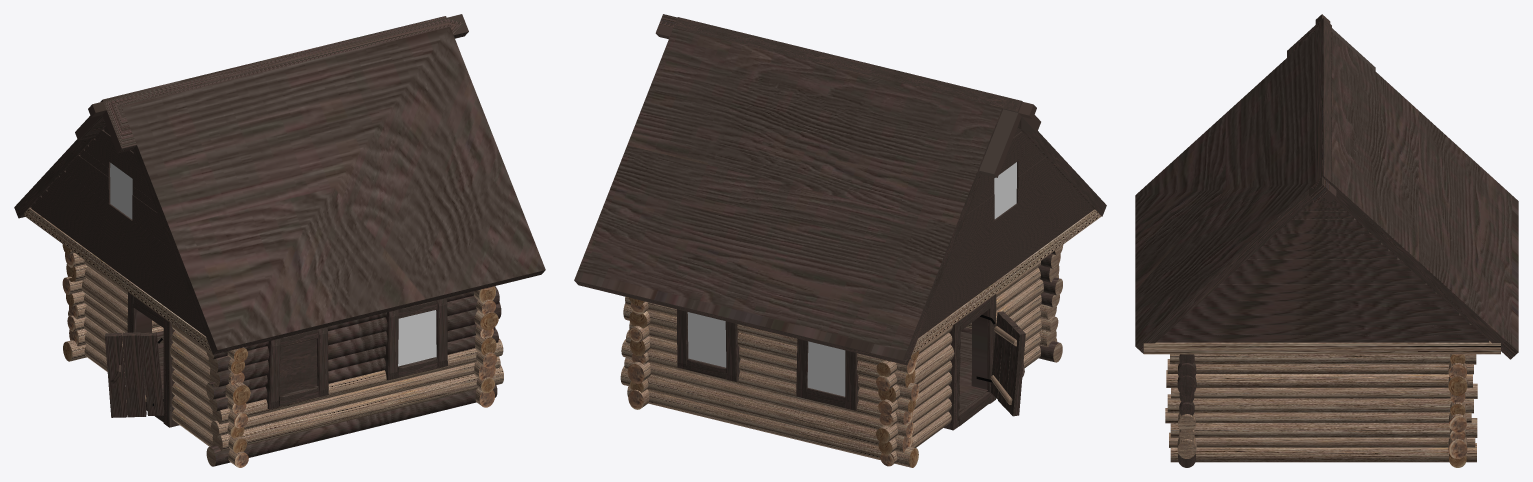
The model's file is House.fbx.
3 renders of one model, left to right at view 1: azimuth 30°, elevation 25°; view 2: azimuth 150°, elevation 25°; view 3: azimuth 270°, elevation 25°, orthographic. The views are drawn at different scales.
Visible parts, largest first — view 1: Plane.011; view 2: Plane.011; view 3: Plane.011.
Boxes of the visible parts, <box> form: Plane.011: <box>14,14,545,467</box>; Plane.011: <box>574,14,1106,467</box>; Plane.011: <box>1135,14,1518,467</box>.
Bounding box in the file's own units: 1577 × 1323 × 1502.
6 materials, 4 textured.
